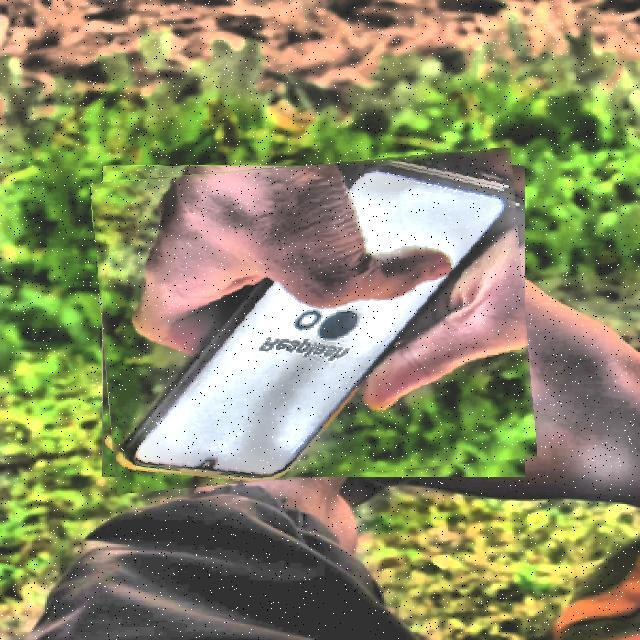Phone: (96, 156, 531, 486)
